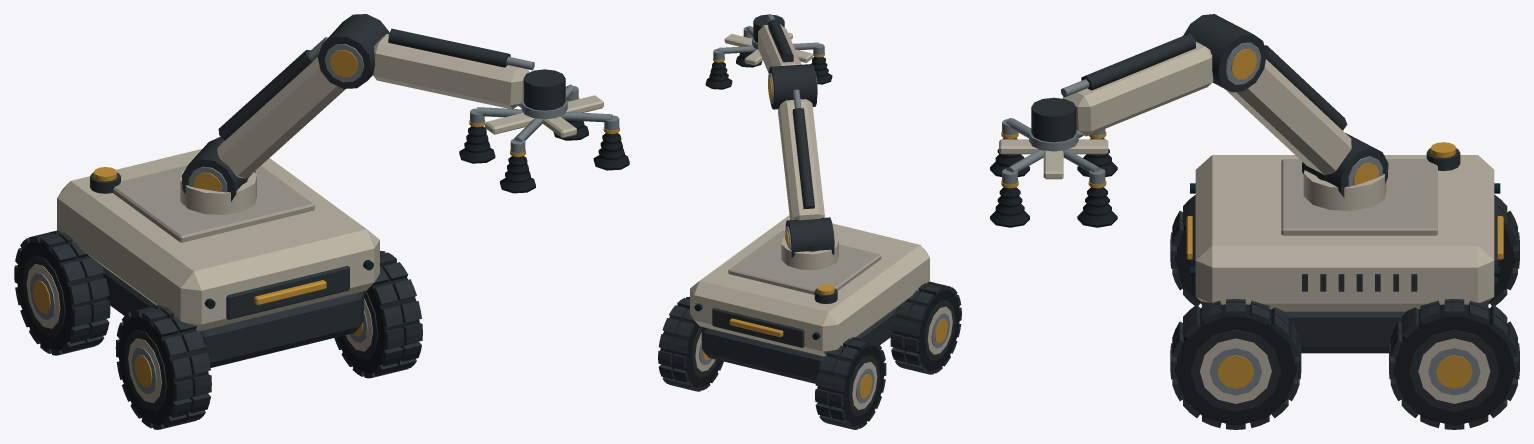
Rendered from cup_d0_lod1.glb.
3 views of the same model, side by side, from view 1: azimuth 30°, elevation 25°; view 2: azimuth 150°, elevation 25°; view 3: azimuth 270°, elevation 25° (orthographic). The views are drawn at different scales.
Visible parts, largest first — view 1: CUP_CHASSIS_SURFACE, CUP_ARM_FORE_SURFACE, CUP_ARM_UPPER_SURFACE, CUP_WHEEL_FL_SURFACE, CUP_WHEEL_RL_SURFACE, CUP_WHEEL_FR_SURFACE, CUP_TOOL_SURFACE, CUP_TURNTABLE_SURFACE, CUP_PAD_FR_SURFACE, CUP_PAD_RL_SURFACE, CUP_PAD_FL_SURFACE; view 2: CUP_CHASSIS_SURFACE, CUP_ARM_UPPER_SURFACE, CUP_WHEEL_RL_SURFACE, CUP_WHEEL_FL_SURFACE, CUP_WHEEL_RR_SURFACE, CUP_ARM_FORE_SURFACE, CUP_TOOL_SURFACE, CUP_TURNTABLE_SURFACE, CUP_PAD_RR_SURFACE, CUP_PAD_FL_SURFACE; view 3: CUP_CHASSIS_SURFACE, CUP_WHEEL_FR_SURFACE, CUP_WHEEL_RR_SURFACE, CUP_ARM_FORE_SURFACE, CUP_ARM_UPPER_SURFACE, CUP_TOOL_SURFACE, CUP_TURNTABLE_SURFACE, CUP_WHEEL_RL_SURFACE, CUP_WHEEL_FL_SURFACE, CUP_PAD_RR_SURFACE, CUP_PAD_FR_SURFACE, CUP_PAD_RL_SURFACE (+1 smaller).
Boxes of the visible parts, left/top/right/bottom form: CUP_CHASSIS_SURFACE: left=57, top=148, right=379, bottom=367; CUP_ARM_FORE_SURFACE: left=317, top=14, right=534, bottom=109; CUP_ARM_UPPER_SURFACE: left=181, top=37, right=345, bottom=201; CUP_WHEEL_FL_SURFACE: left=115, top=305, right=211, bottom=429; CUP_WHEEL_RL_SURFACE: left=14, top=230, right=110, bottom=355; CUP_WHEEL_FR_SURFACE: left=334, top=251, right=422, bottom=378; CUP_TOOL_SURFACE: left=469, top=69, right=619, bottom=156; CUP_TURNTABLE_SURFACE: left=180, top=170, right=256, bottom=214; CUP_PAD_FR_SURFACE: left=593, top=133, right=629, bottom=170; CUP_PAD_RL_SURFACE: left=459, top=126, right=495, bottom=163; CUP_PAD_FL_SURFACE: left=500, top=156, right=535, bottom=193; CUP_CHASSIS_SURFACE: left=690, top=215, right=929, bottom=383; CUP_ARM_UPPER_SURFACE: left=778, top=89, right=834, bottom=257; CUP_WHEEL_RL_SURFACE: left=815, top=337, right=886, bottom=429; CUP_WHEEL_FL_SURFACE: left=890, top=281, right=961, bottom=374; CUP_WHEEL_RR_SURFACE: left=658, top=296, right=723, bottom=391; CUP_ARM_FORE_SURFACE: left=758, top=14, right=817, bottom=109; CUP_TOOL_SURFACE: left=713, top=14, right=824, bottom=65; CUP_TURNTABLE_SURFACE: left=781, top=237, right=838, bottom=269; CUP_PAD_RR_SURFACE: left=705, top=62, right=732, bottom=89; CUP_PAD_FL_SURFACE: left=811, top=56, right=832, bottom=84; CUP_CHASSIS_SURFACE: left=1186, top=142, right=1503, bottom=353; CUP_WHEEL_FR_SURFACE: left=1170, top=299, right=1301, bottom=429; CUP_WHEEL_RR_SURFACE: left=1389, top=299, right=1519, bottom=429; CUP_ARM_FORE_SURFACE: left=1061, top=14, right=1266, bottom=136; CUP_ARM_UPPER_SURFACE: left=1225, top=45, right=1388, bottom=197; CUP_TOOL_SURFACE: left=999, top=97, right=1108, bottom=188; CUP_TURNTABLE_SURFACE: left=1303, top=170, right=1386, bottom=210; CUP_WHEEL_RL_SURFACE: left=1488, top=194, right=1519, bottom=305; CUP_WHEEL_FL_SURFACE: left=1170, top=195, right=1201, bottom=305; CUP_PAD_RR_SURFACE: left=1077, top=187, right=1117, bottom=227; CUP_PAD_FR_SURFACE: left=990, top=187, right=1029, bottom=227; CUP_PAD_RL_SURFACE: left=1077, top=138, right=1117, bottom=176.
Size of the model in its own units: 1.3 by 1.17 by 1.46.
